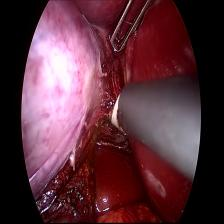Grasper: (106, 0, 154, 54)
Hook: (99, 86, 126, 134)
